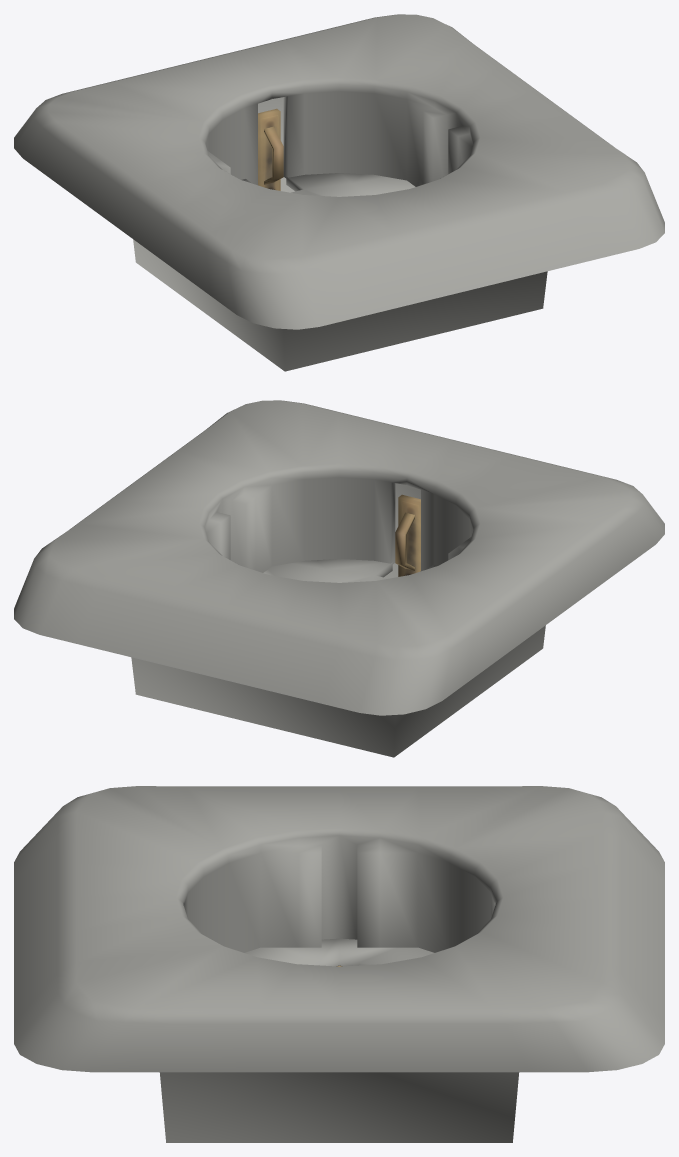
File: rozetka.fbx
3 views of the same model, one above another, from view 1: azimuth 30°, elevation 25°; view 2: azimuth 150°, elevation 25°; view 3: azimuth 270°, elevation 25° (orthographic). The views are drawn at different scales.
Visible parts, largest first — view 1: rozetka; view 2: rozetka; view 3: rozetka.
Part boxes in pixels (<box>): rozetka: <box>14,14,664,371</box>; rozetka: <box>14,400,664,757</box>; rozetka: <box>14,786,664,1142</box>.
Size of the model in its own units: 11.77 by 3.97 by 13.6.
Materials: 1 (1 with a texture image).
